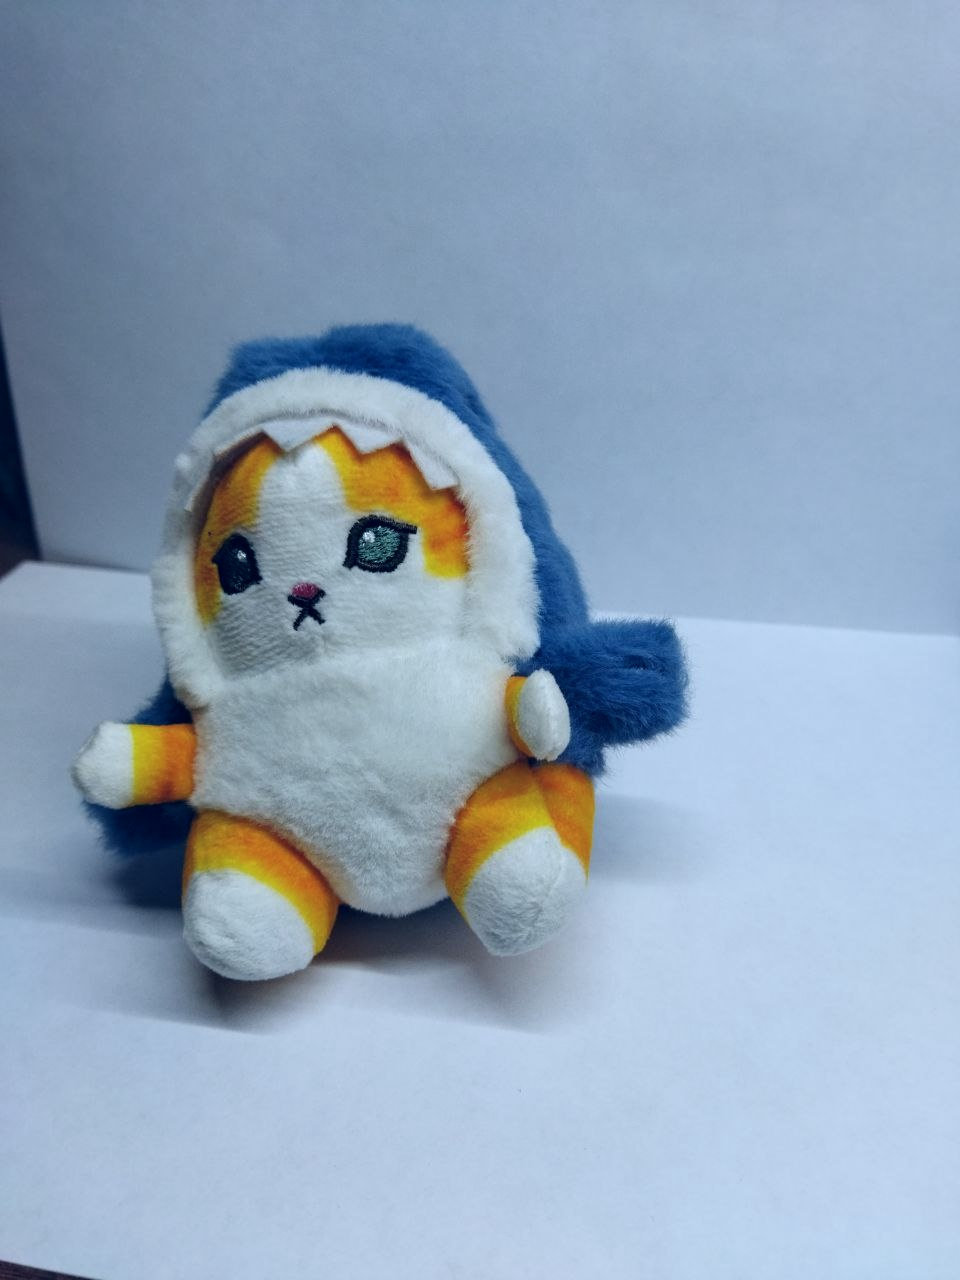Snark Cat: (81, 319, 684, 983)
